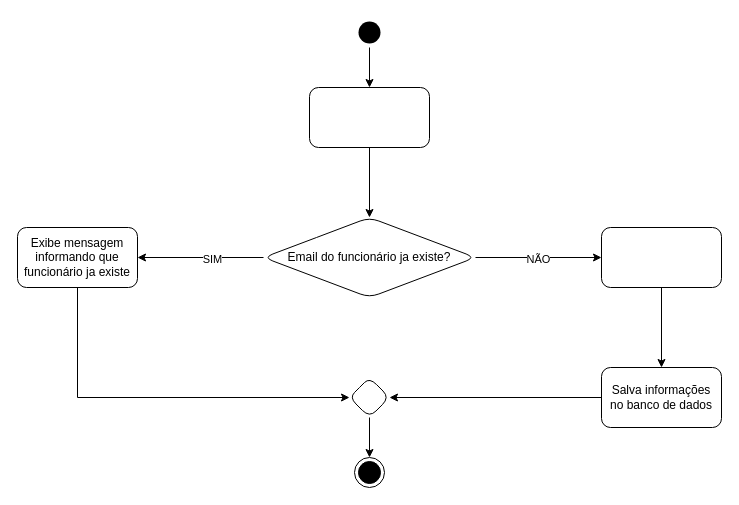
Some shapes in this 739 by 505 pixel diagram are drawn without their labels. Each missing label, with the centre of its shape:
Cadastra informações do funcionário: pixel 661 257
Cadastro funcionário: pixel 369 117
